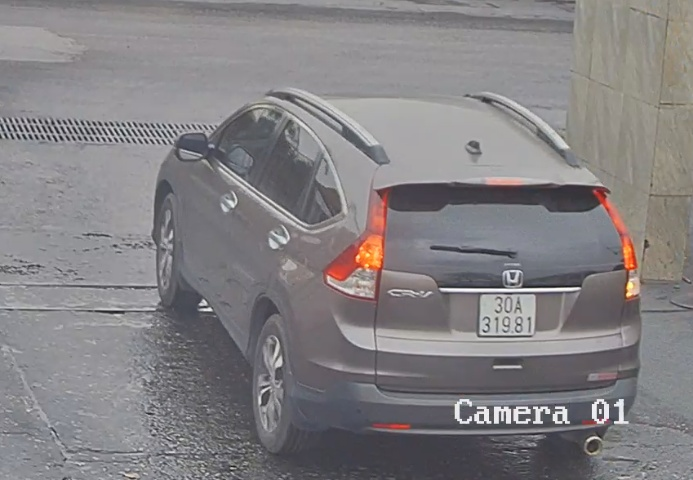vehicle plate: (479, 287, 539, 337)
